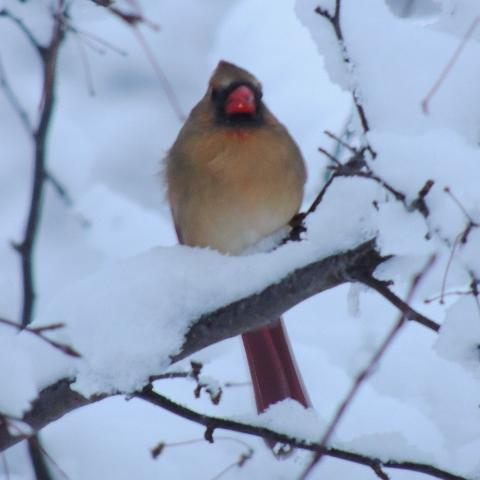bird: (160, 57, 316, 415)
